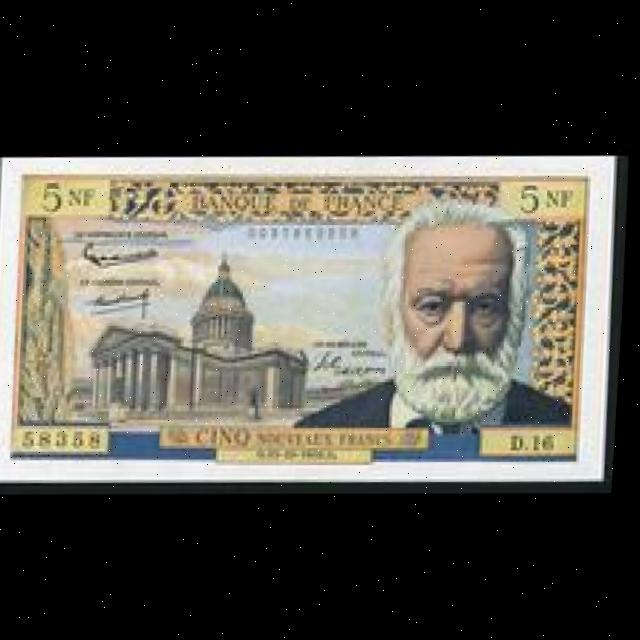banknote: (0, 143, 625, 493), (513, 176, 553, 224), (35, 180, 73, 215)
